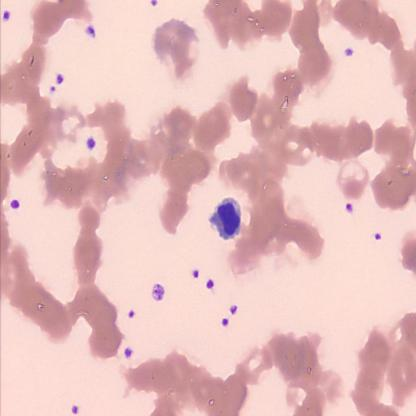NRC: (207, 195, 243, 242)
